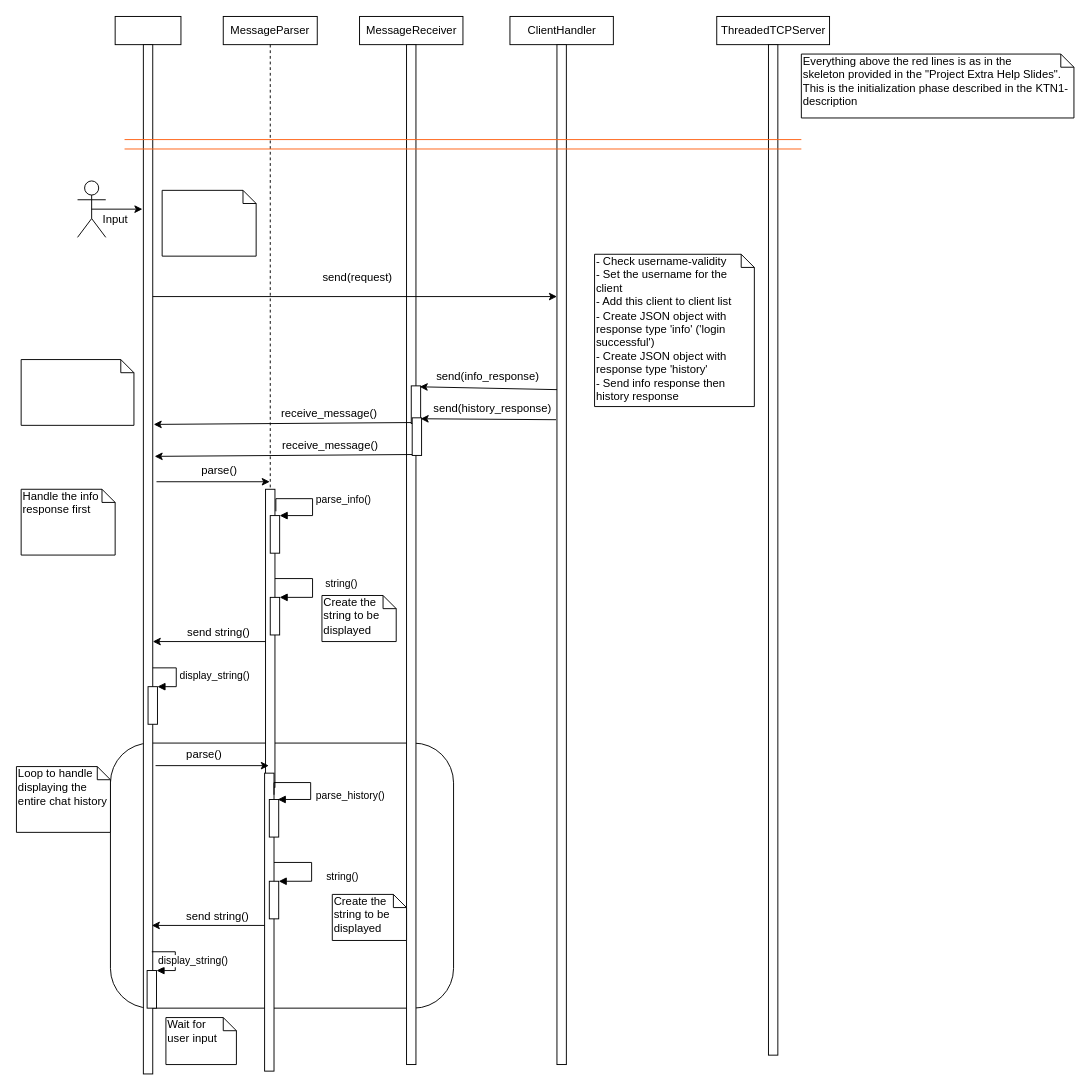
Some shapes in this 1090 by 1090 pixel diagram are drawn without their labels. Each missing label, with the centre of its shape:
After receiving the message, it is sent to MessageParser for "translation": (x=77, y=392)
Client: (x=147, y=30)
Create JSON object with request type 'login': (x=208, y=222)
User: (x=91, y=208)
